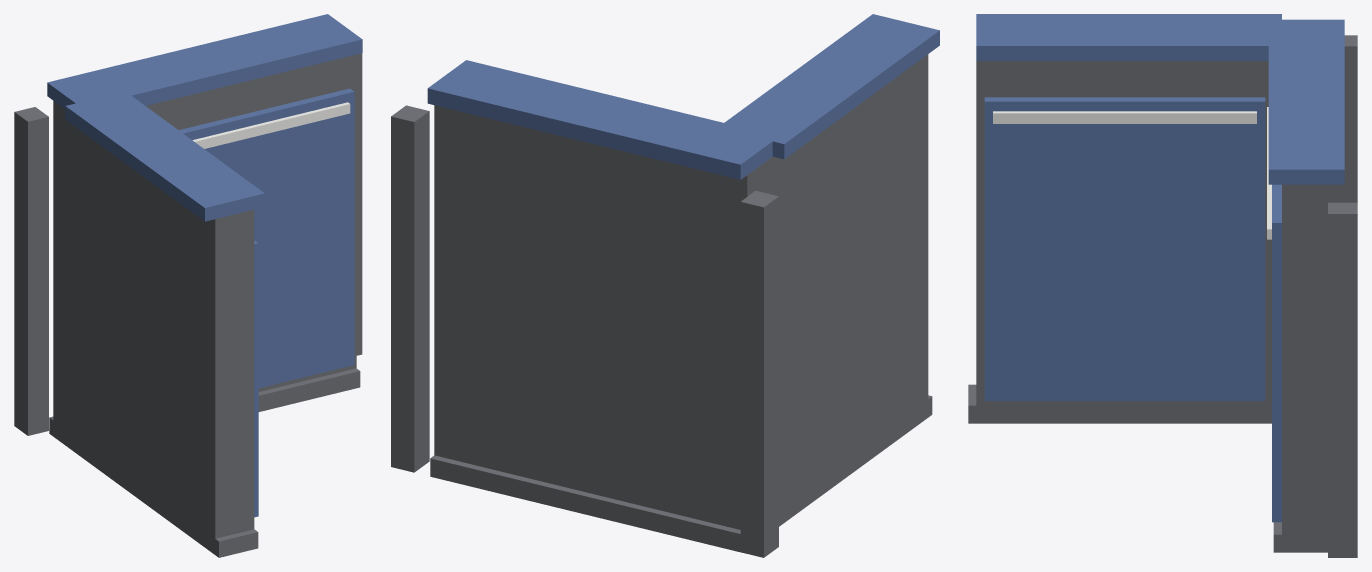
File: baseball-park-and-batting-cages-outfield-wall-corner-d65b2176__33750.glb
The picture shows the model from 3 angles, left to right: view 1: azimuth 30°, elevation 25°; view 2: azimuth 150°, elevation 25°; view 3: azimuth 270°, elevation 25°; orthographic projection. The views are drawn at different scales.
Visible parts, largest first — view 1: outfield-wall-corner; view 2: outfield-wall-corner; view 3: outfield-wall-corner.
Part boxes in pixels (<box>): outfield-wall-corner: <box>14,14,362,557</box>; outfield-wall-corner: <box>391,14,939,557</box>; outfield-wall-corner: <box>968,14,1357,557</box>.
Size of the model in its own units: 2.56 by 2.56 by 2.36.
